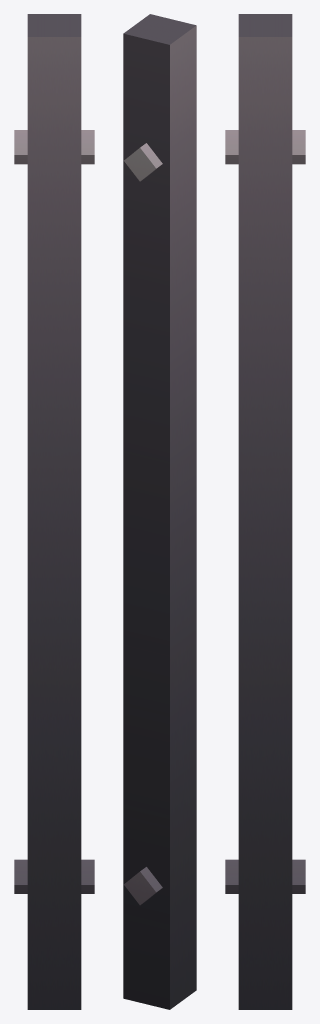
File: Pillar_Verti_002.FBX
3 renders of one model, left to right at view 1: azimuth 90°, elevation 25°; view 2: azimuth 150°, elevation 25°; view 3: azimuth 270°, elevation 25°, orthographic.
Parts seen in each view (by area): view 1: Pillar_Verti_002; view 2: Pillar_Verti_002; view 3: Pillar_Verti_002.
Part boxes in pixels (left/top/right/bottom): Pillar_Verti_002: left=14, top=14, right=94, bottom=1009; Pillar_Verti_002: left=123, top=14, right=196, bottom=1009; Pillar_Verti_002: left=225, top=14, right=305, bottom=1009.
Bounding box in the file's own units: 0.0508 × 1.01 × 0.0755.
Materials: 1 (1 with a texture image).
